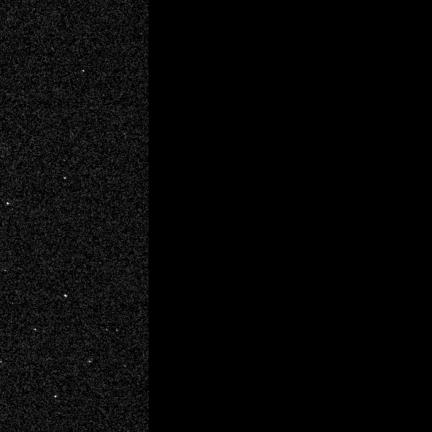blob: (64, 295, 68, 298), (7, 203, 10, 206)
